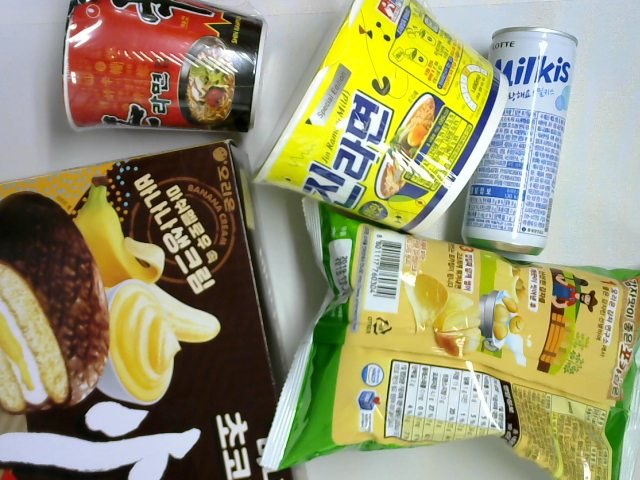Choco_Pie_Banana: (1, 135, 296, 480)
Jinlamyeon_Mild_Taste_Large_Cup: (249, 1, 511, 239)
Milkies_250ml: (462, 26, 579, 256)
Pocachip_Onion: (258, 197, 640, 480)
Sinramen_small: (60, 1, 269, 135)
